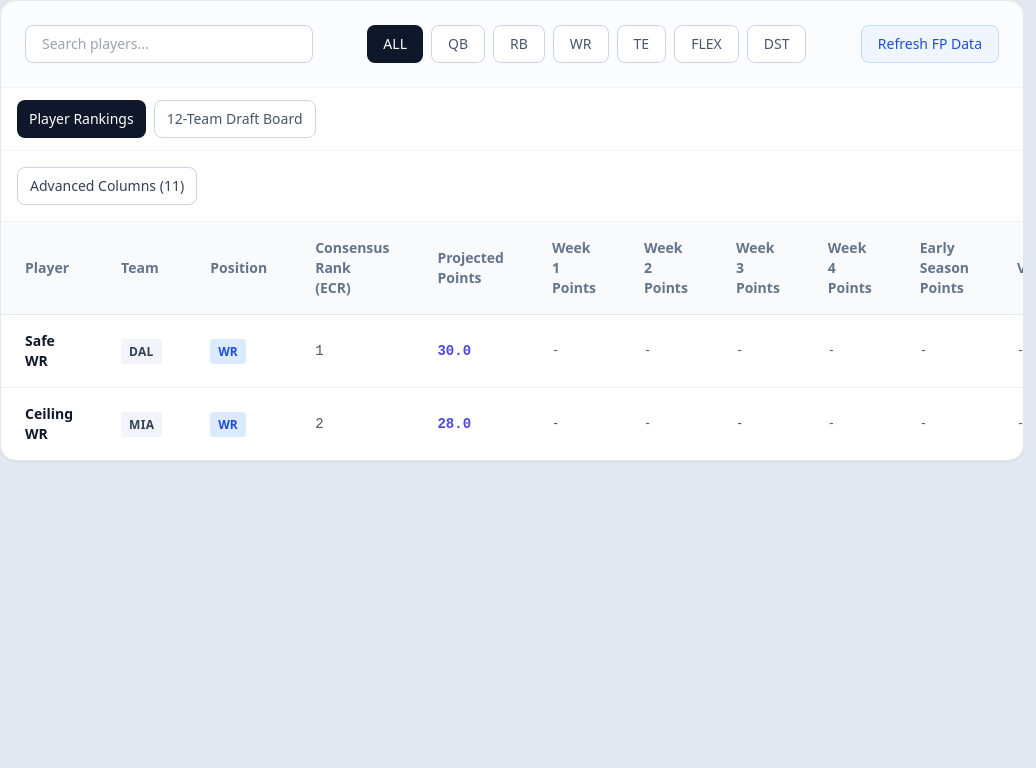
Test: DashboardClient › switches draft board recommendation weighting when matchup-winning ceiling mode is enabled
Click the tab with test id "tab-draft-board". click: (235, 119)
box: top-left (154, 100), bottom-right (316, 138)
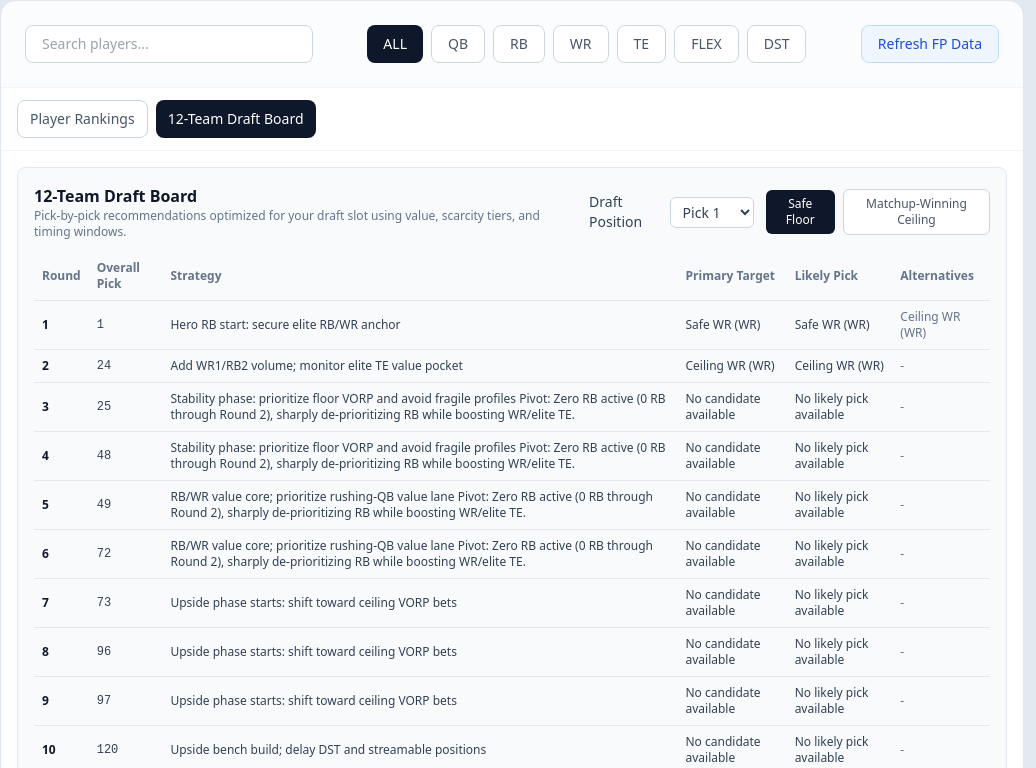
Expected: the cell with test id "draft-board-primary-1" reads "Safe WR (WR)", top-left (686, 316), bottom-right (760, 333)
Click the button with test id "draft-mode-matchup-winning-ceiling". click: (916, 212)
box: top-left (843, 189), bottom-right (990, 235)
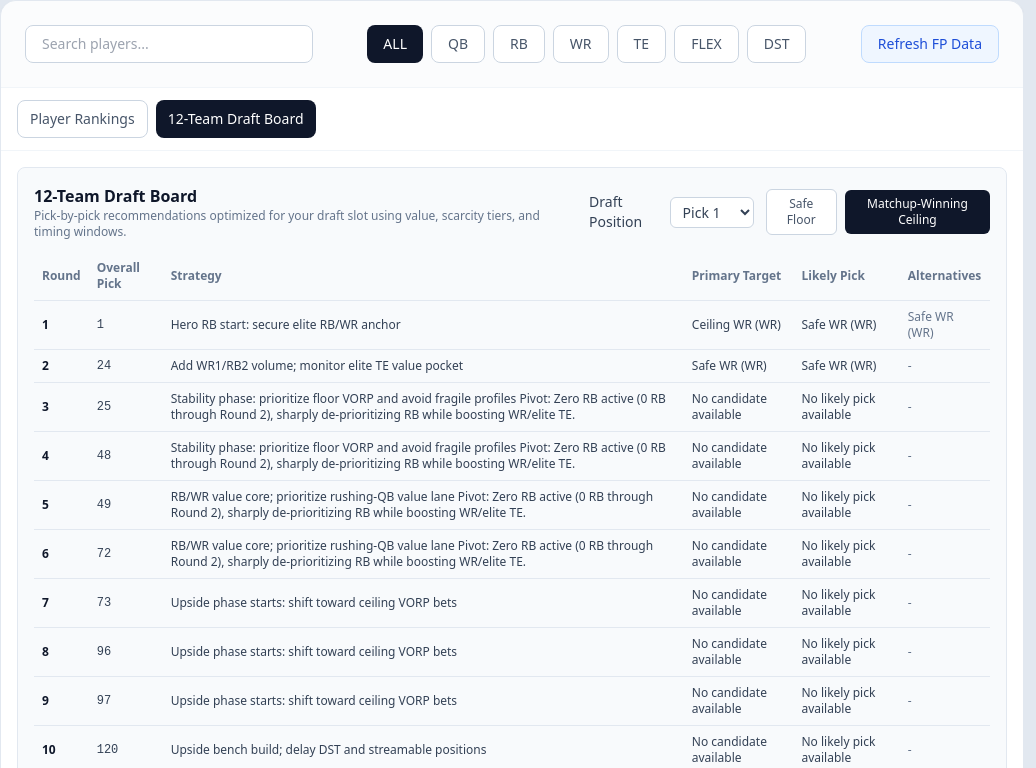
Expected: the cell with test id "draft-board-primary-1" reads "Ceiling WR (WR)", top-left (692, 316), bottom-right (781, 333)
